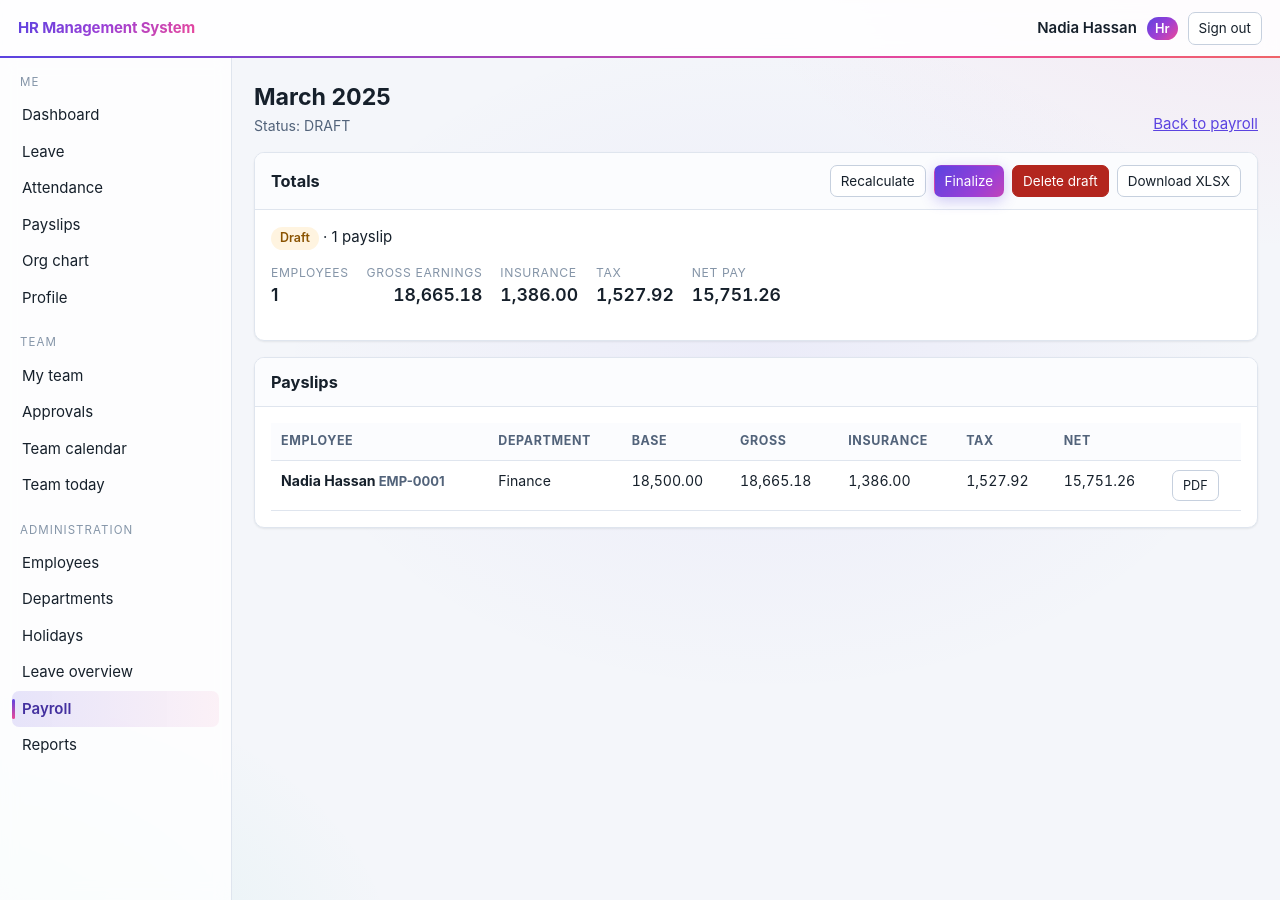
payroll run detail › downloads the register as an authenticated blob
Click the button "Download XLSX" at (1179, 181), box [1117, 165, 1241, 197]
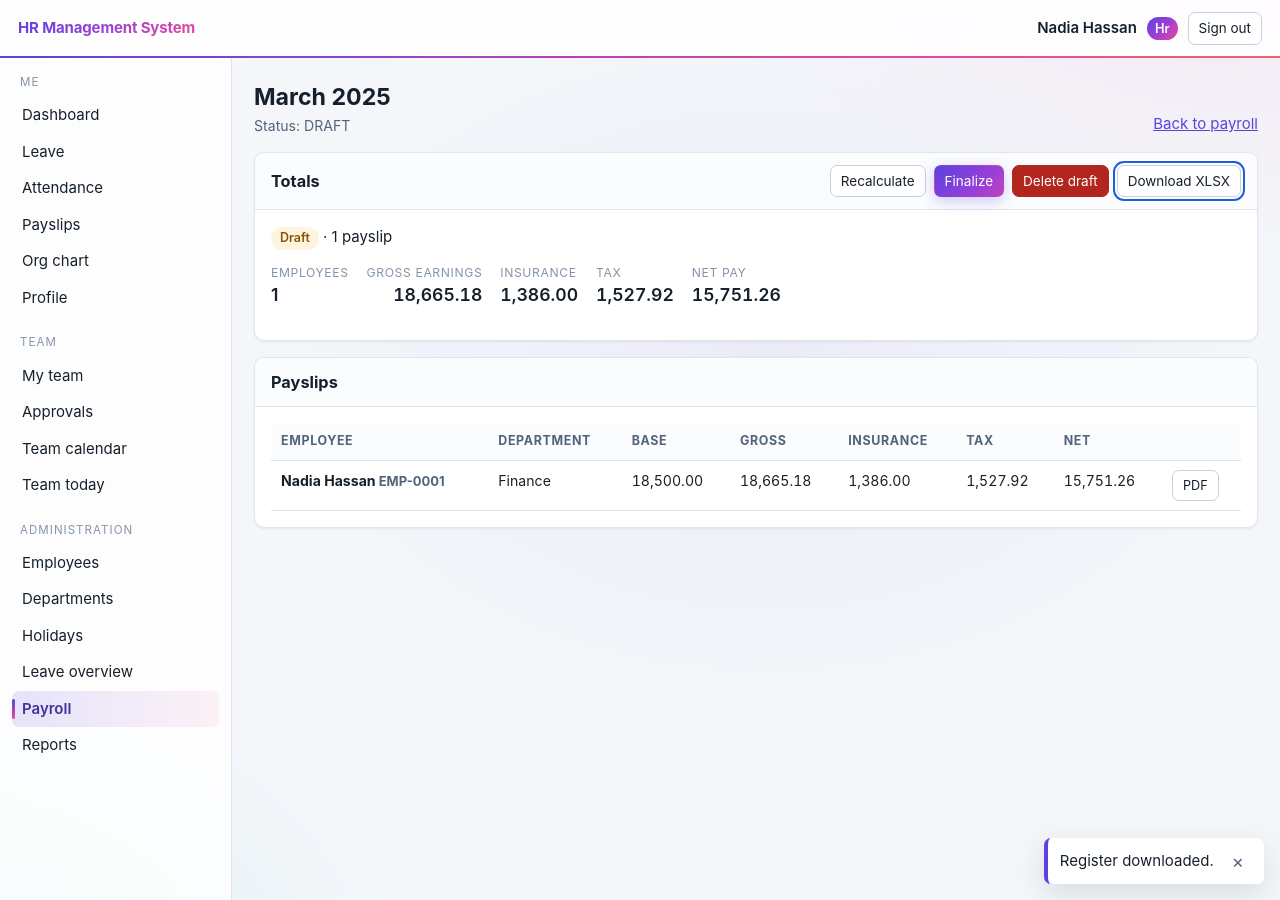
Expected: the text "Register downloaded." is shown, [1060, 850, 1214, 872]
